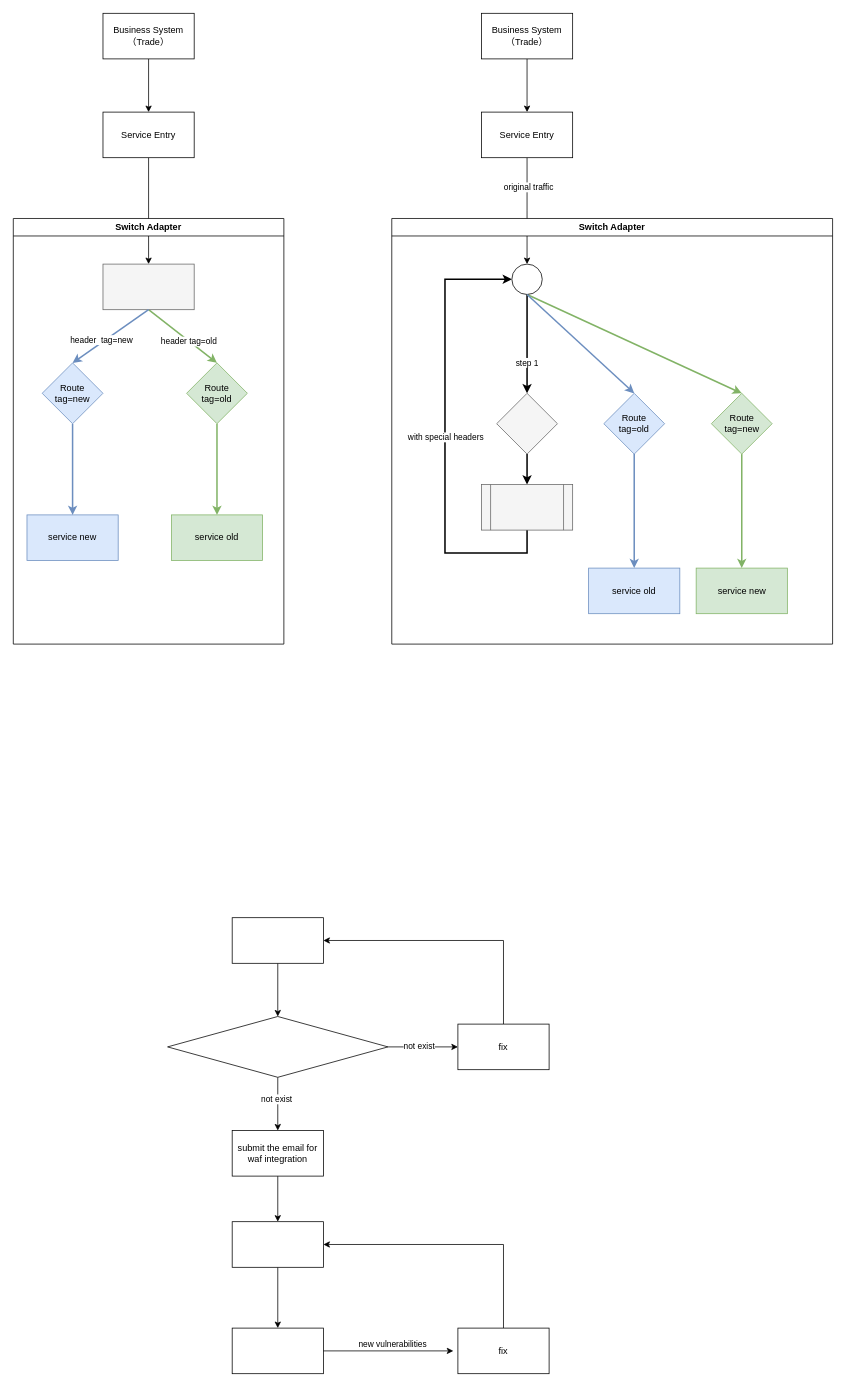
Image size: 846x1387. Some labels were removed from this diagram. The centre of each missing label's shape, as x and y in pixels:
"Approve and release to online environment" belongs at point 277,1244.
"change headers" belongs at point 148,286.
"filter change headers" belongs at point 527,507.
"monthly security scaning" belongs at point 277,1350.
"Route Default" belongs at point 526,423.
"Security Test" belongs at point 277,940.
"Whether medium-high risk vulnerabilities exist" belongs at point 277,1046.
